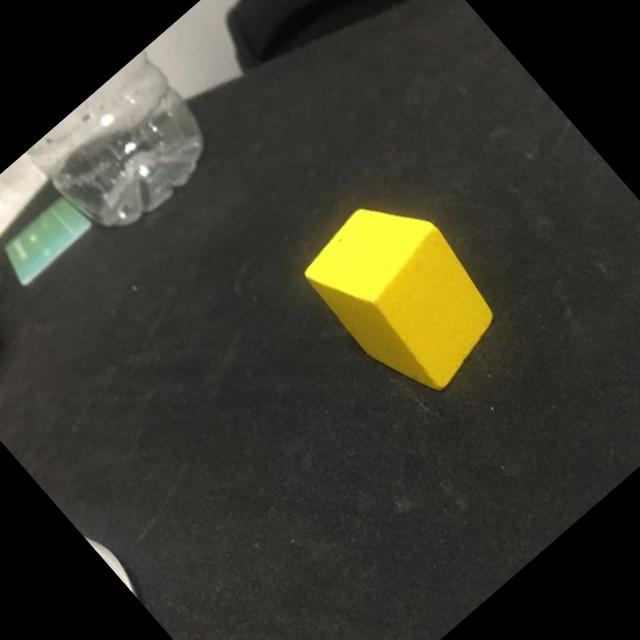yellow: (290, 176, 522, 414)
